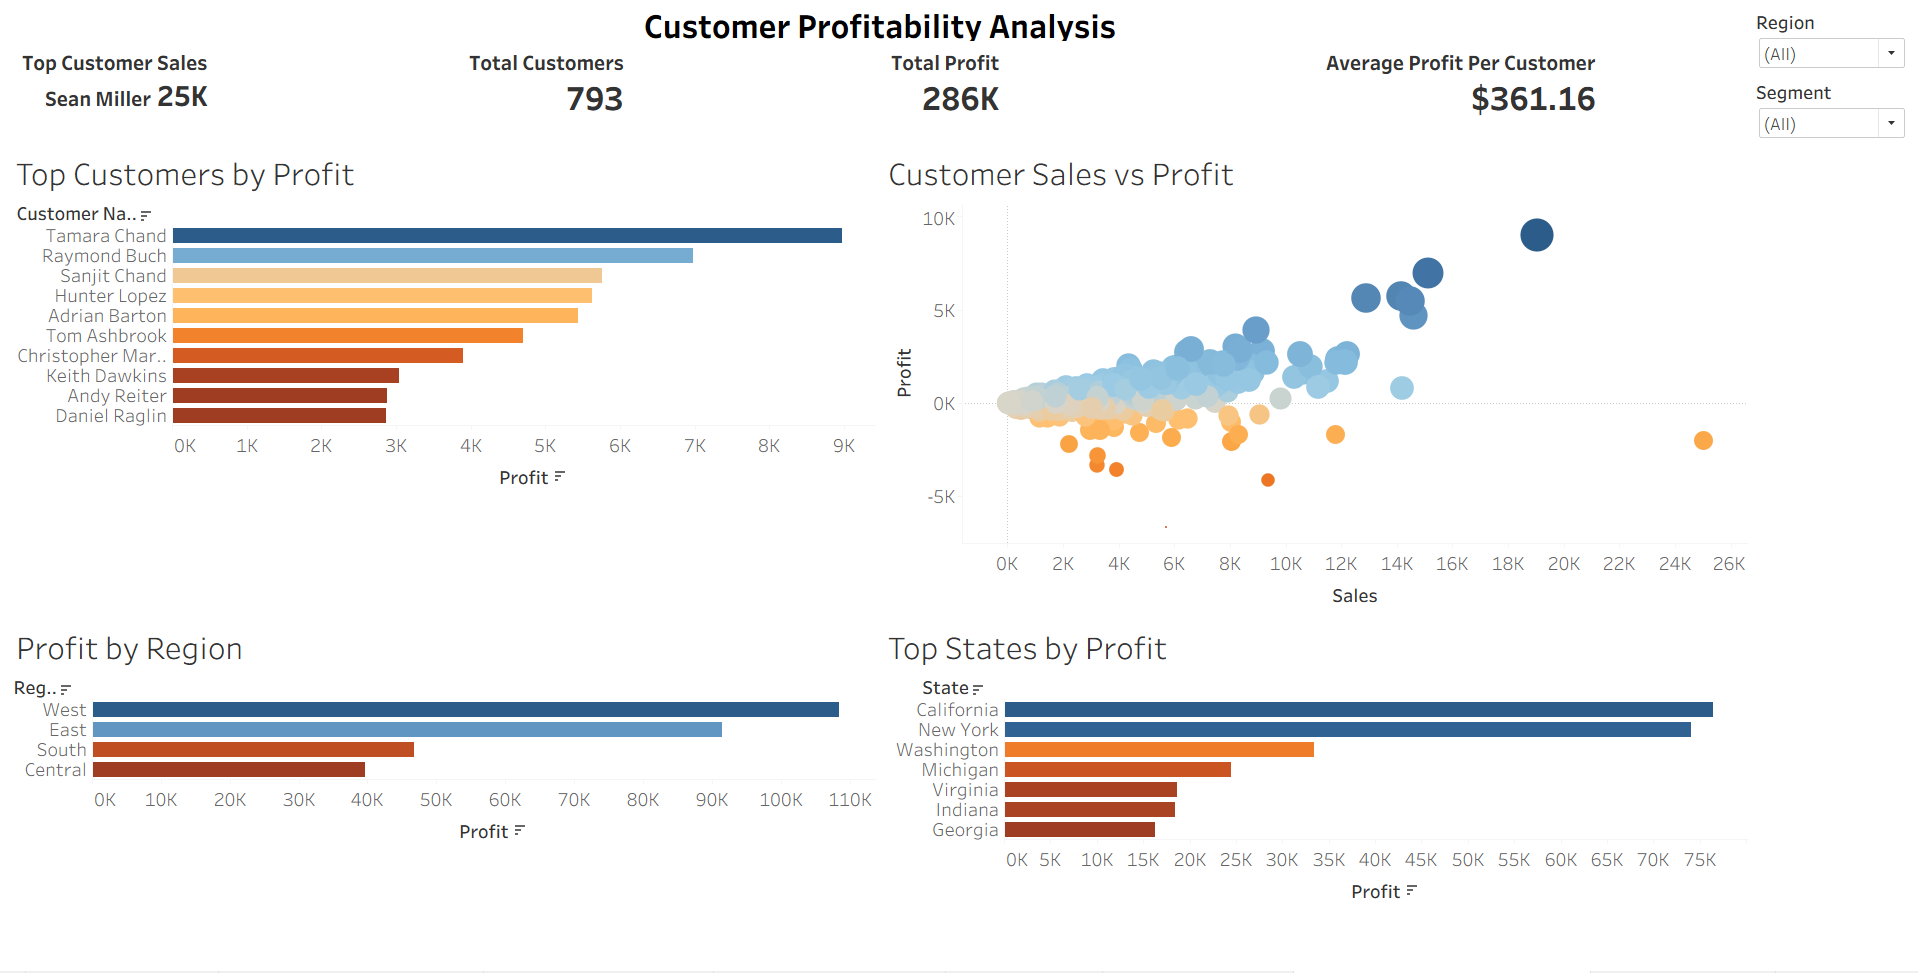

This screenshot's page, from the dashboard's own definition file:
{"tool":"tableau","page":{"name":"CustomerProfitabilityAnalysis","canvas":[1000,1000],"units":"permille","ordinal":1},"visuals":[{"type":"text","box":[4.2,8.2,908.3,40.6]},{"type":"filter","title":"Top Customers by Profit","param":"[federated.1k9e1lu12u8j3r19thx170q1152m].[none:region:nk]","box":[912.5,8.2,83.3,71.8]},{"type":"worksheet","title":"Top Customer Sales","mark":"Automatic","box":[4.2,49.2,227.1,100.5]},{"type":"worksheet","title":"Total Customers","mark":"Automatic","box":[231.2,49.2,227.1,100.5]},{"type":"worksheet","title":"Total Profit","mark":"Automatic","box":[458.3,49.2,227.1,100.5]},{"type":"worksheet","title":"Average Profit per Customer","mark":"Automatic","box":[685.4,49.2,227.1,100.5]},{"type":"filter","title":"Top Customers by Profit","param":"[federated.1k9e1lu12u8j3r19thx170q1152m].[none:segment:nk]","box":[912.5,80,83.3,71.8]},{"type":"worksheet","title":"Top Customers by Profit","mark":"Bar","rows":["customer_name"],"cols":["profit"],"box":[4.2,150.8,454.2,486.2]},{"type":"worksheet","title":"Customer Sales vs Profit","mark":"Circle","rows":["profit"],"cols":["sales"],"box":[458.3,150.8,454.2,486.2]},{"type":"worksheet","title":"Profit by Region","mark":"Bar","rows":["region"],"cols":["profit"],"box":[4.2,636.9,454.2,354.9]},{"type":"worksheet","title":"Top States by Profit","mark":"Automatic","rows":["state"],"cols":["profit"],"box":[458.3,636.9,454.2,354.9]}]}

Visuals, with their boxes on the dashboard's canvas, which has no fixed pixel size, in thousandths of its width and height (x1, y1, x2, y2). These are canvas units, not pixel positions in the 1918x973 screenshot, which may show the page scaled, cropped or inside an application window:
text: 4, 8, 912, 49
"Top Customers by Profit" filter: 912, 8, 996, 80
"Top Customer Sales" worksheet: 4, 49, 231, 150
"Total Customers" worksheet: 231, 49, 458, 150
"Total Profit" worksheet: 458, 49, 685, 150
"Average Profit per Customer" worksheet: 685, 49, 912, 150
"Top Customers by Profit" filter: 912, 80, 996, 152
"Top Customers by Profit" worksheet (Bar marks): 4, 151, 458, 637
"Customer Sales vs Profit" worksheet (Circle marks): 458, 151, 912, 637
"Profit by Region" worksheet (Bar marks): 4, 637, 458, 992
"Top States by Profit" worksheet: 458, 637, 912, 992
